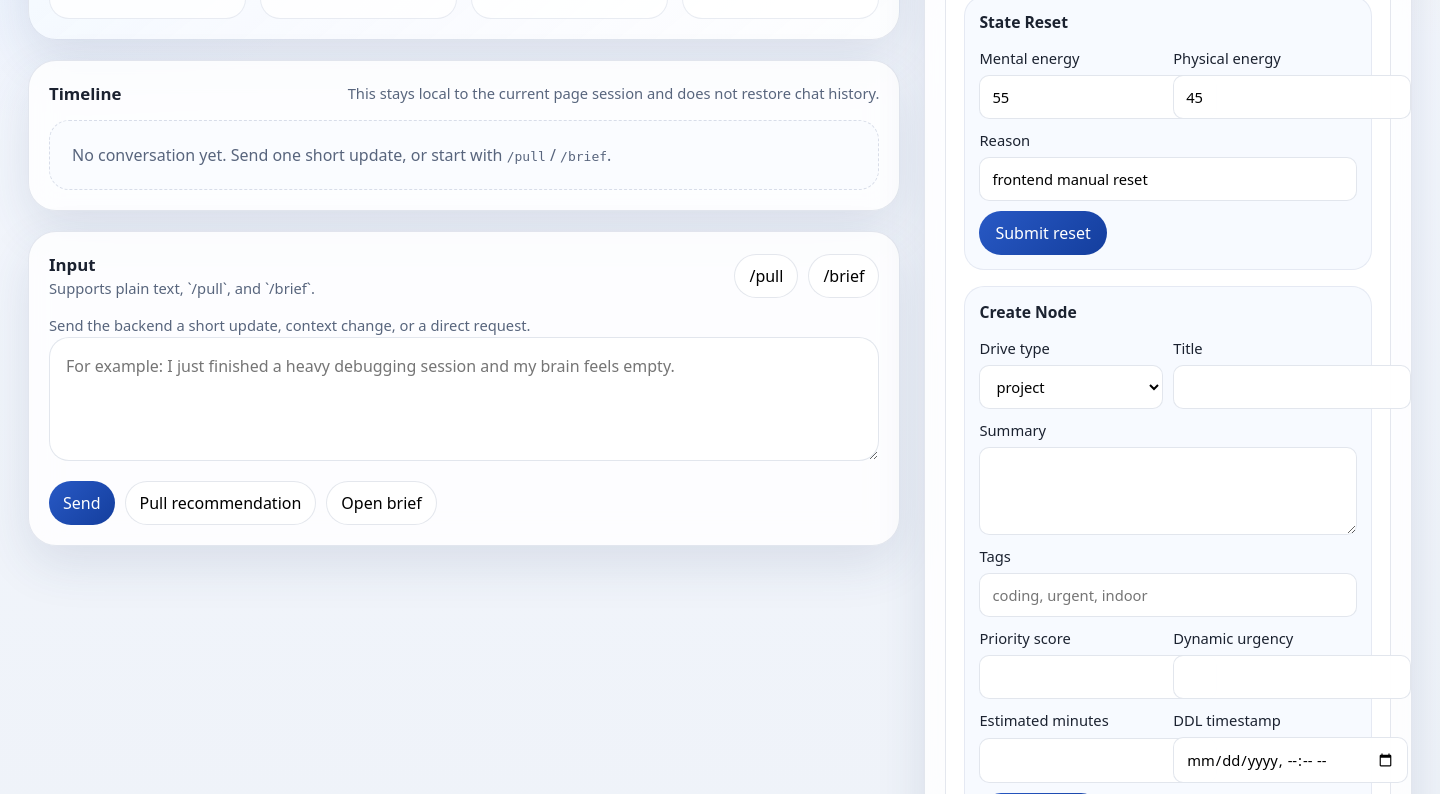
Test: App integration › retries a failed chat message without duplicating the user bubble
This screenshot has width=1440, height=794.
(page scrolled)
Type "Need one clear next step." into the text box with placeholder "I just finished a heavy debugging session" at {"x": 464, "y": 399}, box [49,337,879,461]
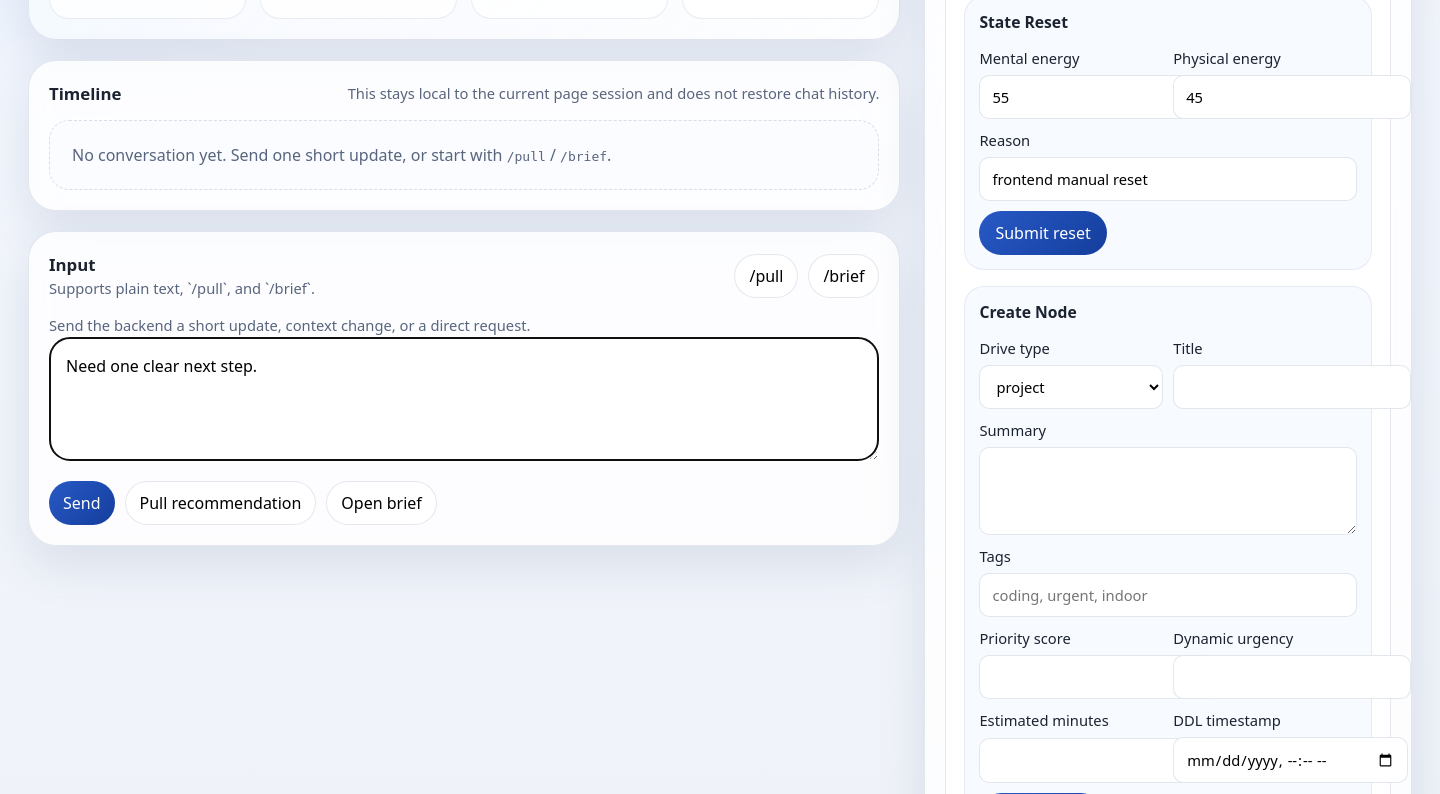
Click the button "Send" at {"x": 82, "y": 503}, box [49,481,114,525]
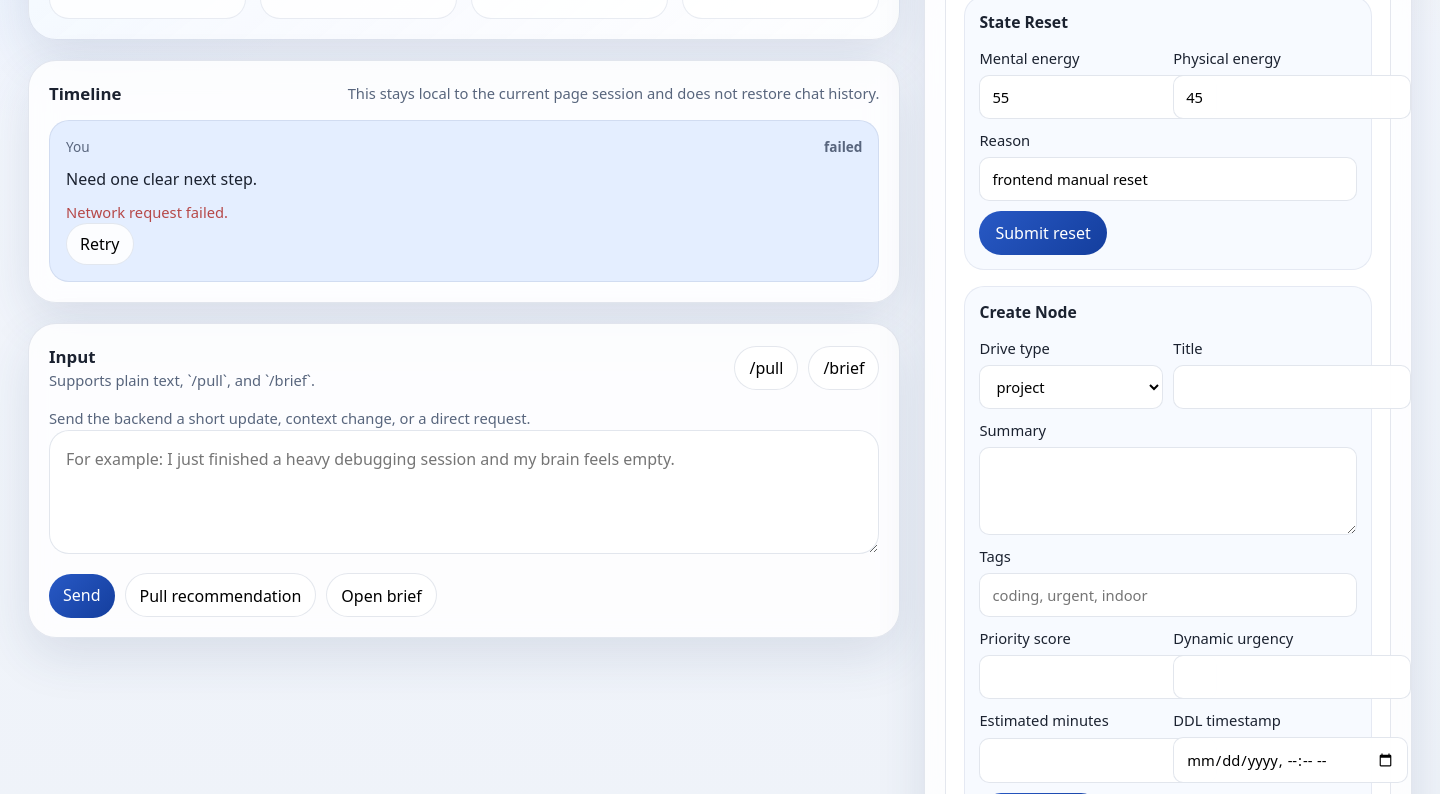
Now the button "Retry" is shown
Now the text "Need one clear next step." is shown once, box [66,168,257,190]
Click the button "Retry" at {"x": 100, "y": 244}, box [66,223,134,265]
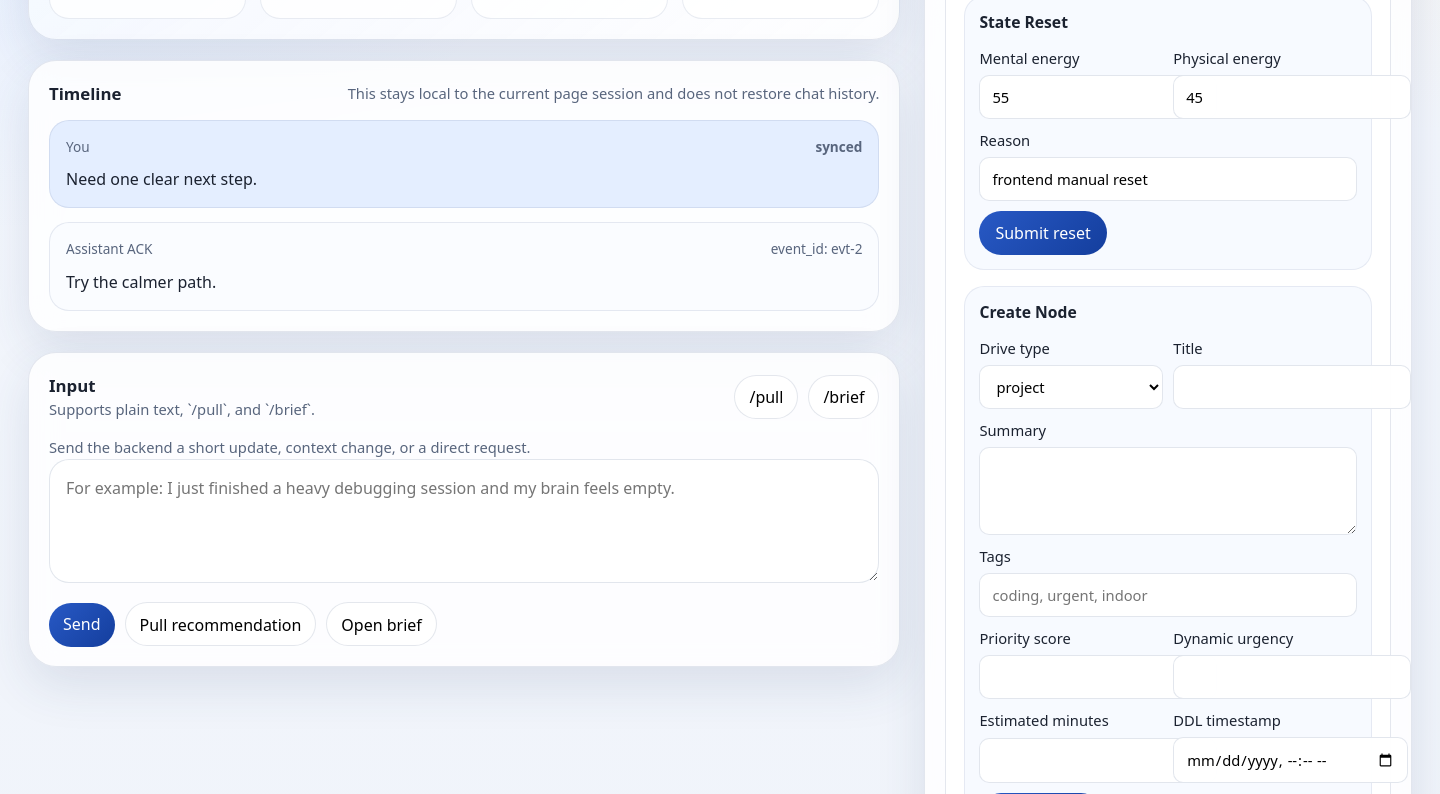
Now the text "Try the calmer path." is shown, box [66,271,216,293]
Now the text "synced" is shown, box [815,137,862,157]
Now the text "Need one clear next step." is shown once, box [66,168,257,190]
